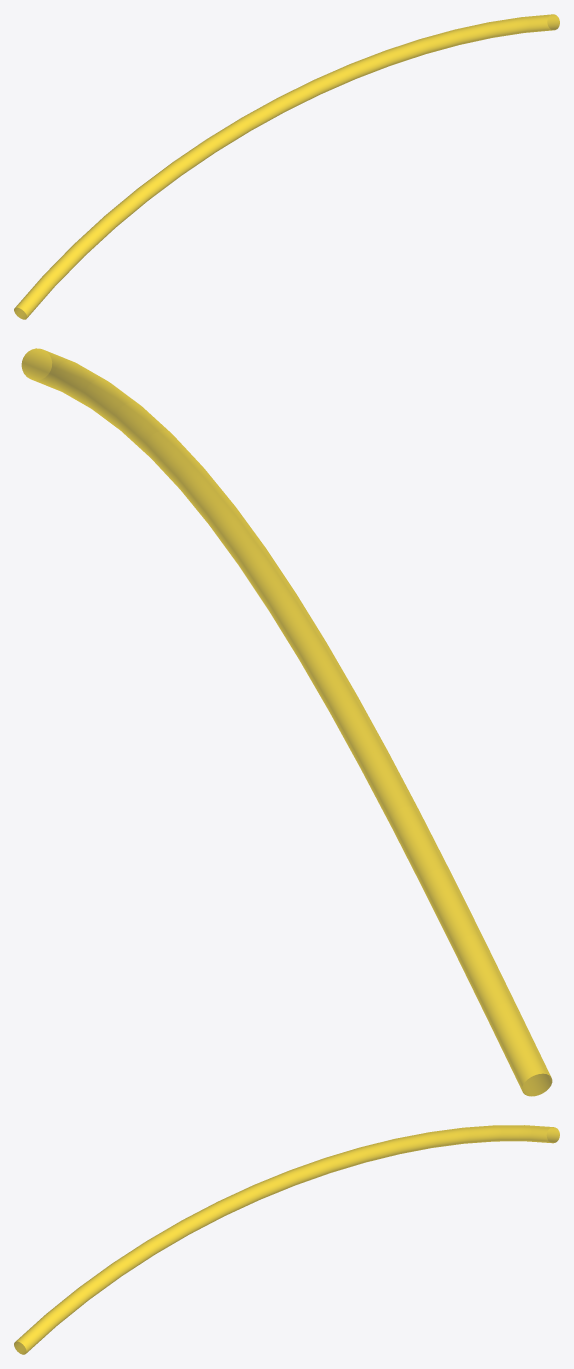
The model's file is Event_31209032_track_42.fbx.
3 renders of one model, top to bottom at view 1: azimuth 90°, elevation 25°; view 2: azimuth 150°, elevation 25°; view 3: azimuth 270°, elevation 25°, orthographic. The views are drawn at different scales.
Visible parts, largest first — view 1: Model; view 2: Model; view 3: Model.
Part boxes in pixels (x1=…): Model: x1=14, y1=14, x2=559, y2=319; Model: x1=21, y1=348, x2=552, y2=1096; Model: x1=14, y1=1125, x2=559, y2=1354.
Bounding box in the file's own units: 1.5 × 0.2691 × 1.35.
